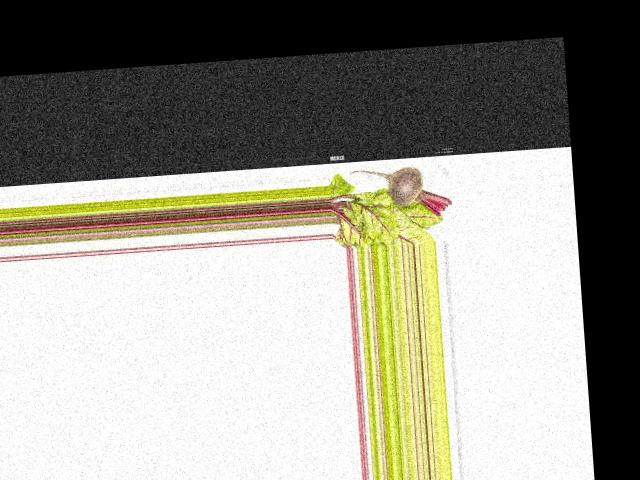beet: (350, 163, 452, 222)
